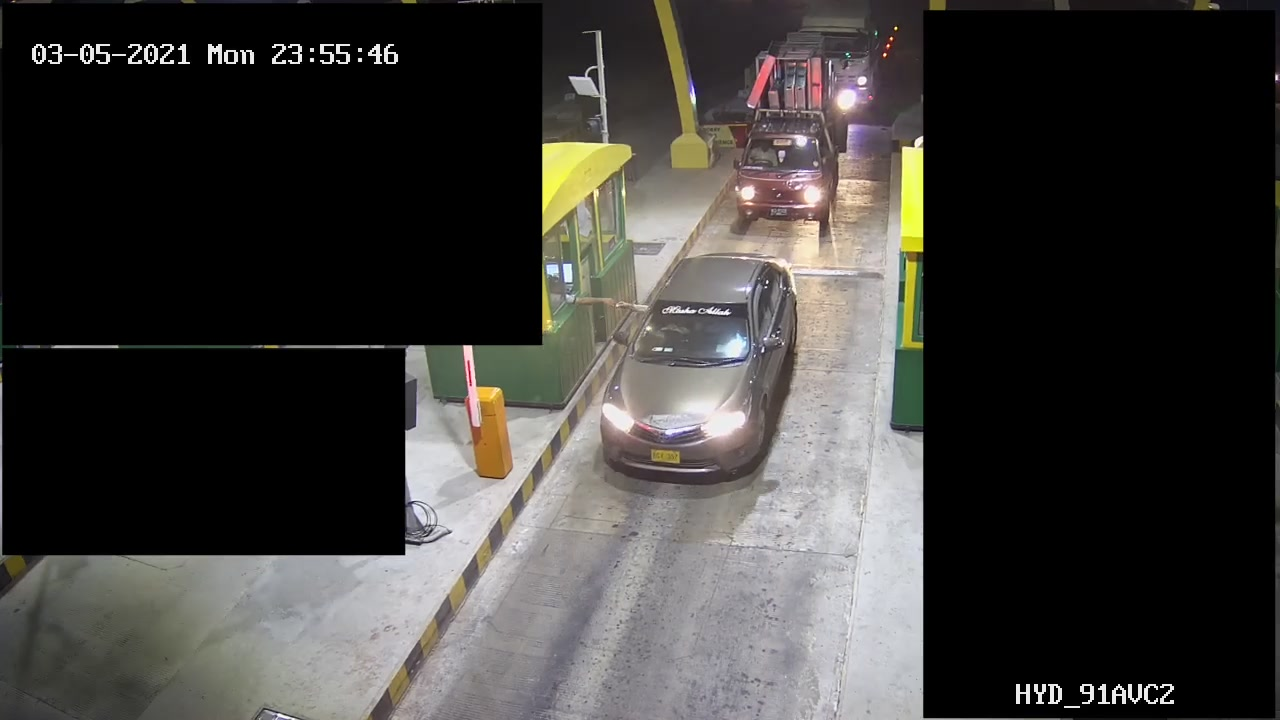F1: (588, 252, 805, 489)
F2: (719, 39, 860, 234)
